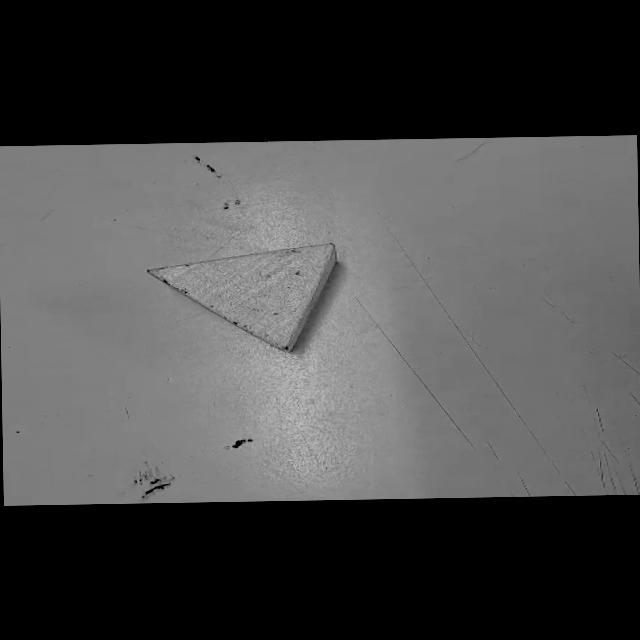ytriangle: (144, 240, 346, 356)
